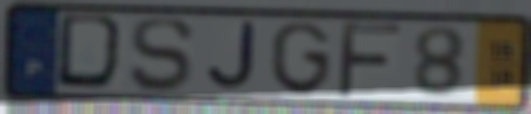8: (409, 25, 471, 99)
D: (53, 11, 132, 94)
F: (334, 18, 405, 101)
G: (268, 19, 334, 98)
J: (204, 20, 259, 94)
S: (127, 15, 197, 95)
